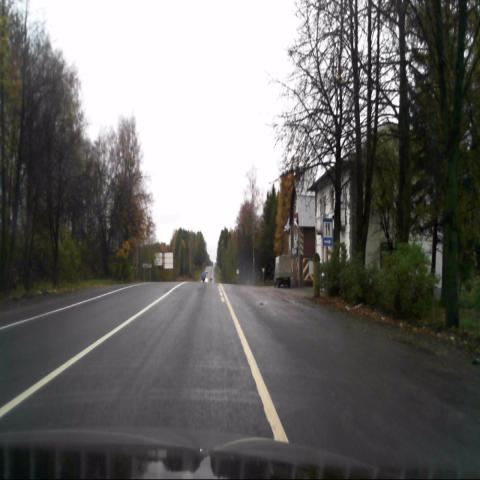7_7: (323, 218, 333, 246)
